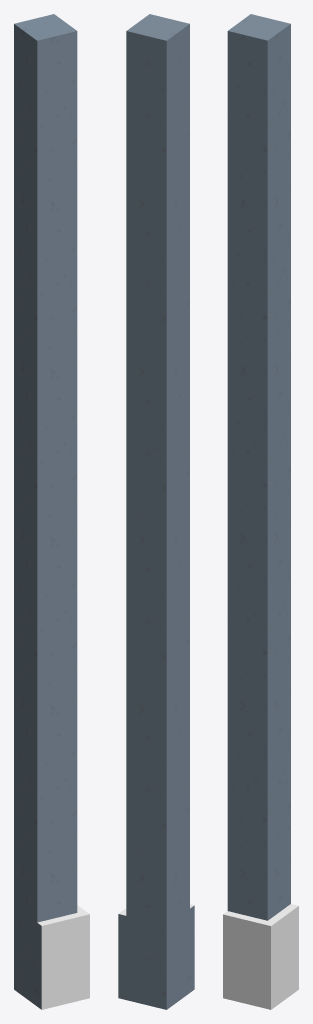
Rendered from Tile_House_CornerPiece_01.obj.
The picture shows the model from 3 angles, left to right: view 1: azimuth 30°, elevation 25°; view 2: azimuth 150°, elevation 25°; view 3: azimuth 330°, elevation 25°; orthographic projection.
Parts seen in each view (by area): view 1: Tile_House_CornerPiece_01_mi_HouseInteriorWalls_02, Tile_House_CornerPiece_01_mi_WhiteTrim; view 2: Tile_House_CornerPiece_01_mi_HouseInteriorWalls_02; view 3: Tile_House_CornerPiece_01_mi_HouseInteriorWalls_02, Tile_House_CornerPiece_01_mi_WhiteTrim.
Part boxes in pixels (x1,y1,x2,y2): Tile_House_CornerPiece_01_mi_HouseInteriorWalls_02: (14,14,77,1009); Tile_House_CornerPiece_01_mi_WhiteTrim: (37,905,89,1009); Tile_House_CornerPiece_01_mi_HouseInteriorWalls_02: (118,14,194,1009); Tile_House_CornerPiece_01_mi_HouseInteriorWalls_02: (227,14,290,920); Tile_House_CornerPiece_01_mi_WhiteTrim: (223,904,298,1009).
Bounding box in the file's own units: 0.3 × 5.75 × 0.3.
Materials: 2 (1 with a texture image).
